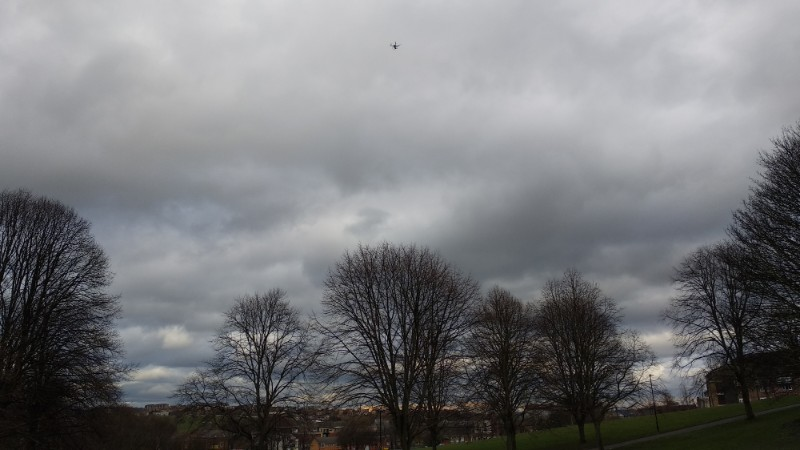drone: (389, 40, 400, 52)
